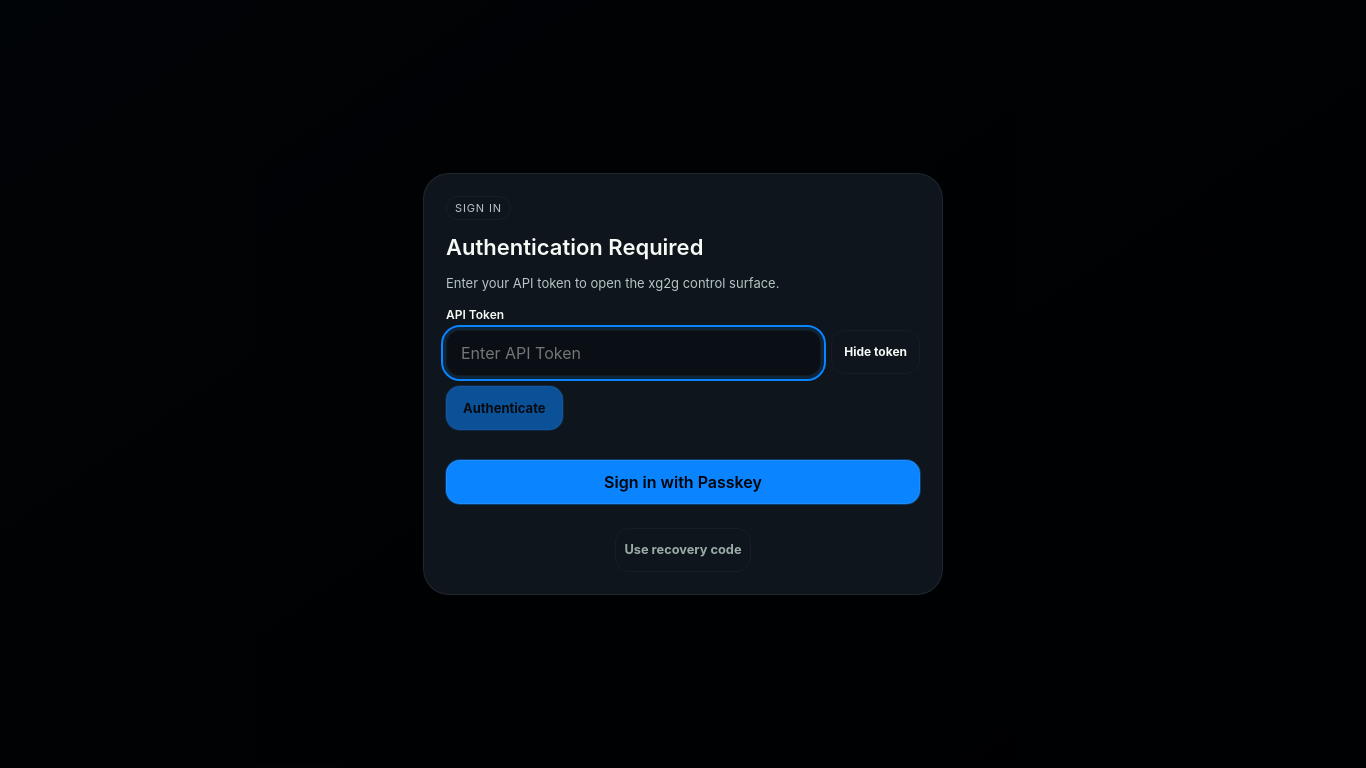
Test: BootstrapGate › shows the token in clear text on TV hosts and supports clearing it
Expected: the button "Hide token" is shown, left=831, top=330, right=920, bottom=374
Type "test01" into the field labelled "API Token".
click(634, 353); type("test01")  # box left=446, top=330, right=821, bottom=376
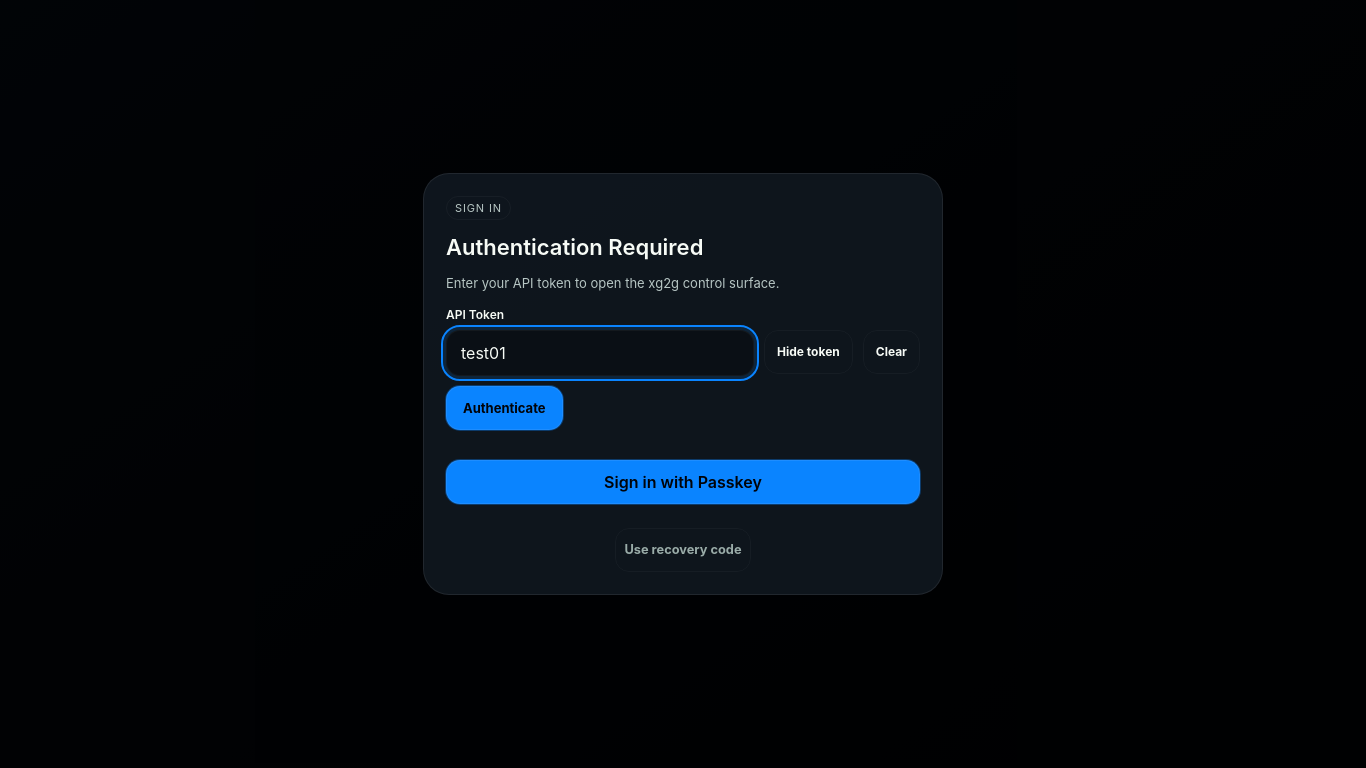
Click the button "Clear".
click(891, 352)  # box left=863, top=330, right=920, bottom=374
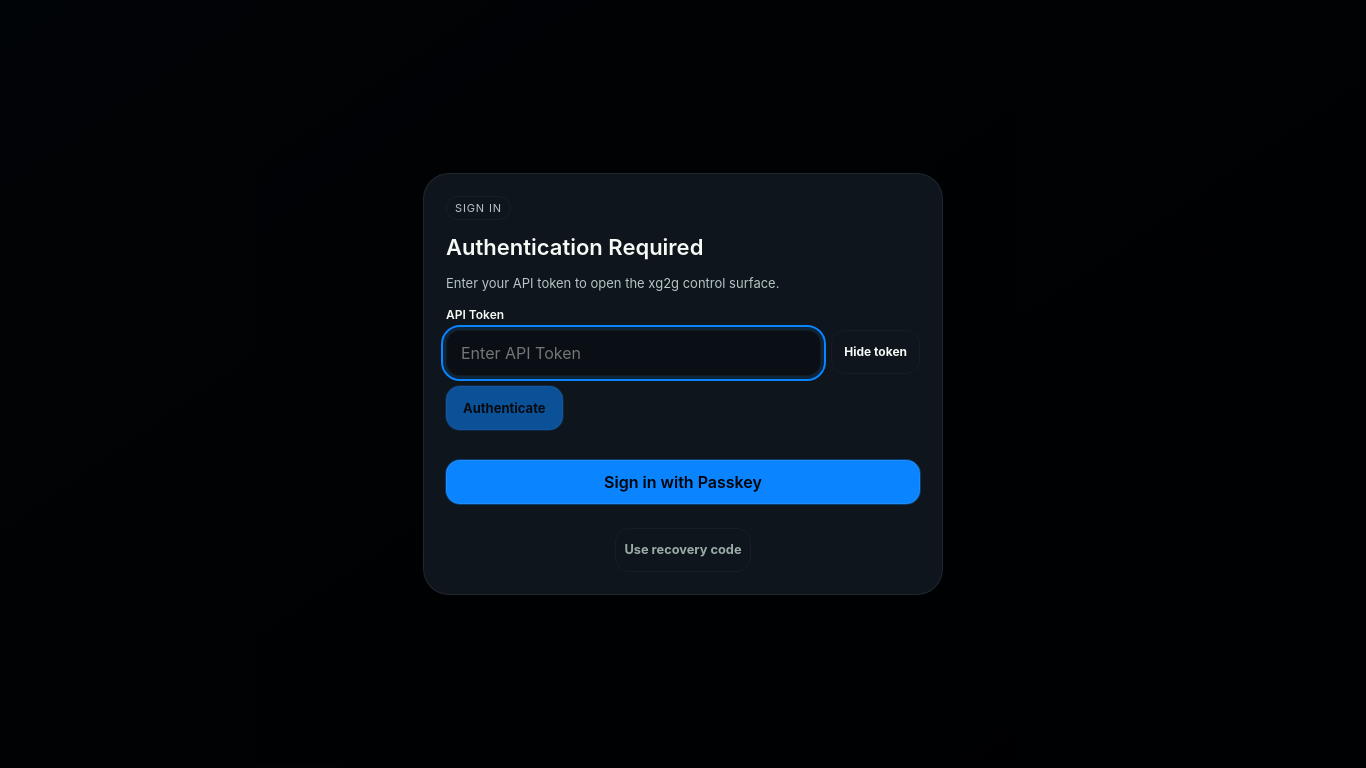
Now the field labelled "API Token" is empty, box left=446, top=330, right=821, bottom=376
